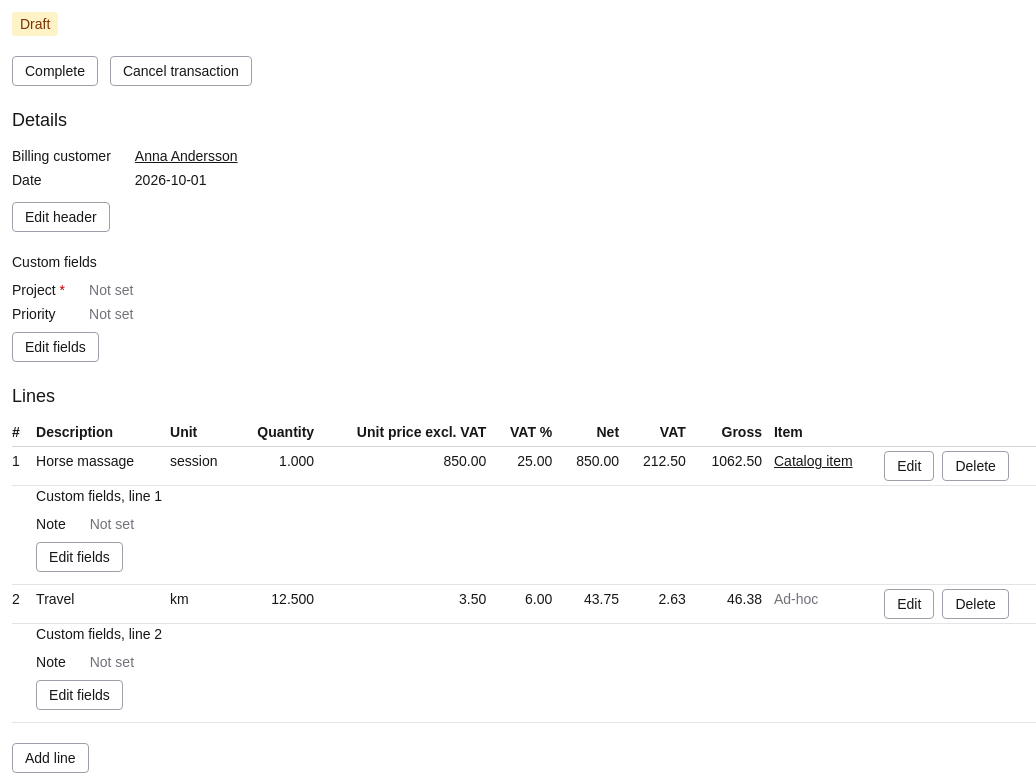
Test: failures › a missing record (404) says so without revealing why, and refreshes
Click the button with test id "edit-fields" below "Custom fields, line 1" at (79, 557), box left=36, top=542, right=123, bottom=572
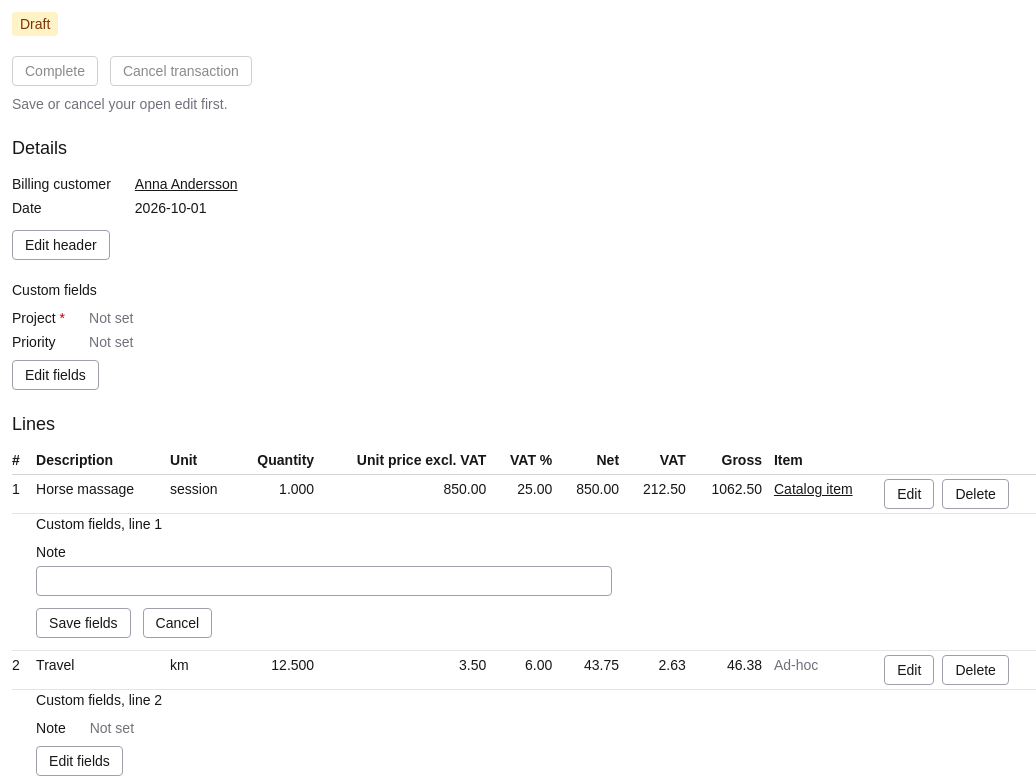
Type "my draft" into the field labelled "Note" at (324, 581), box left=36, top=566, right=612, bottom=596
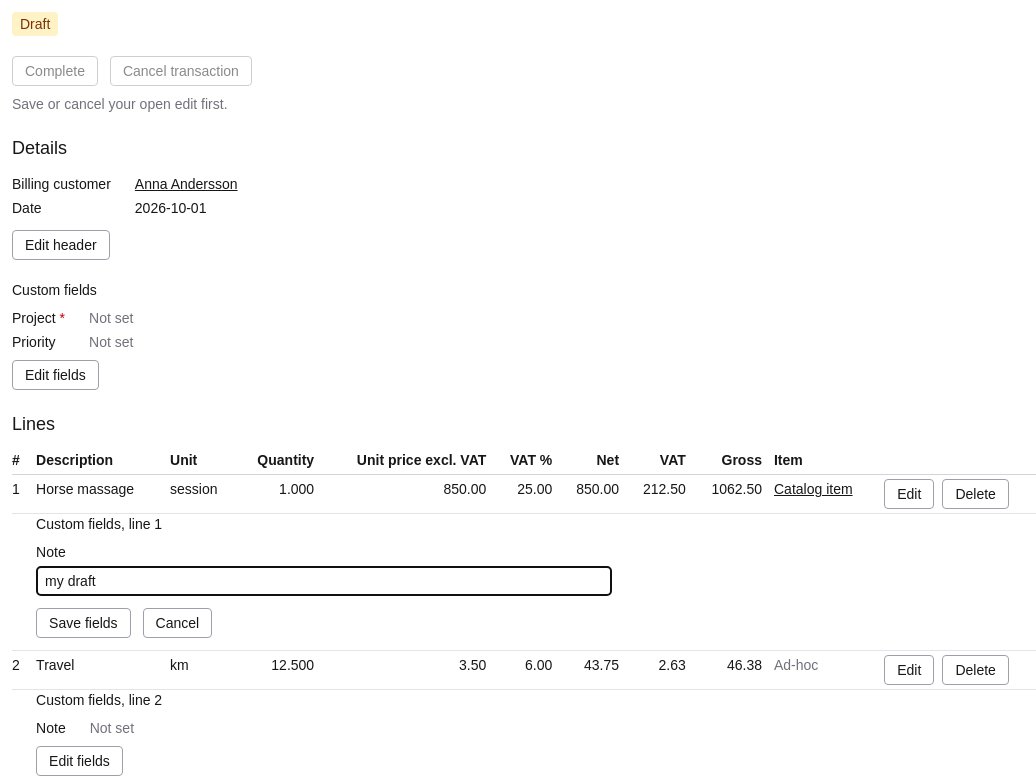
Click the button with test id "save-fields" at (83, 623), box left=36, top=608, right=131, bottom=638
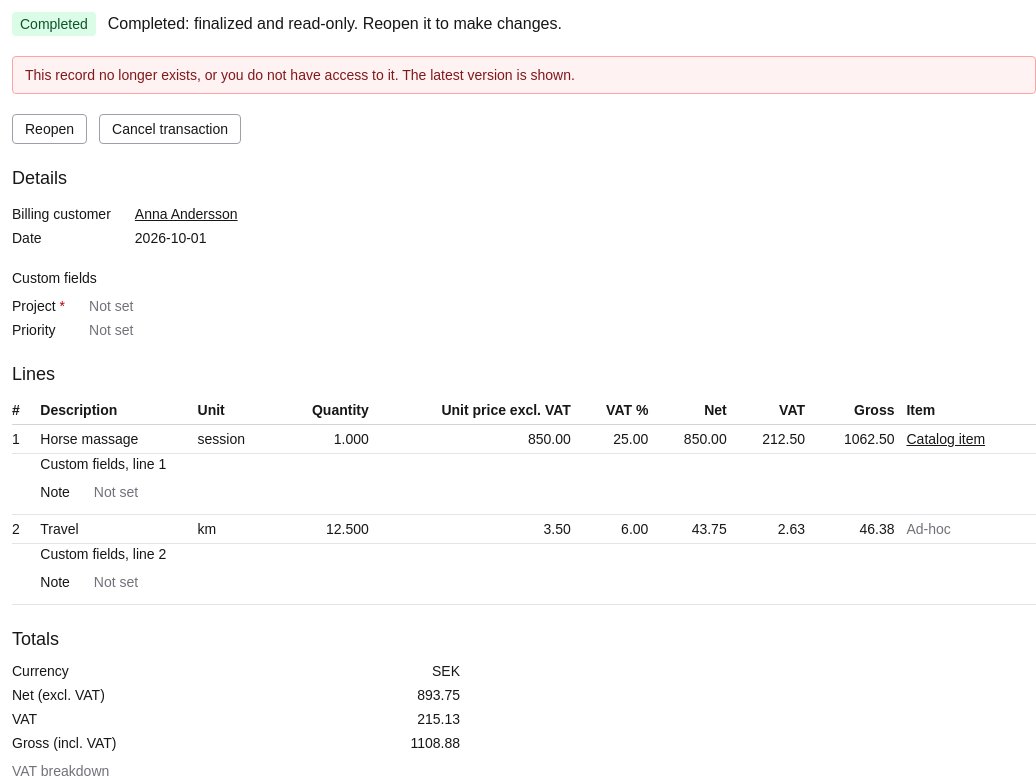
Now the message with test id "editor-notice" shows "no longer exists, or you do not have access to it", box left=25, top=67, right=575, bottom=83
